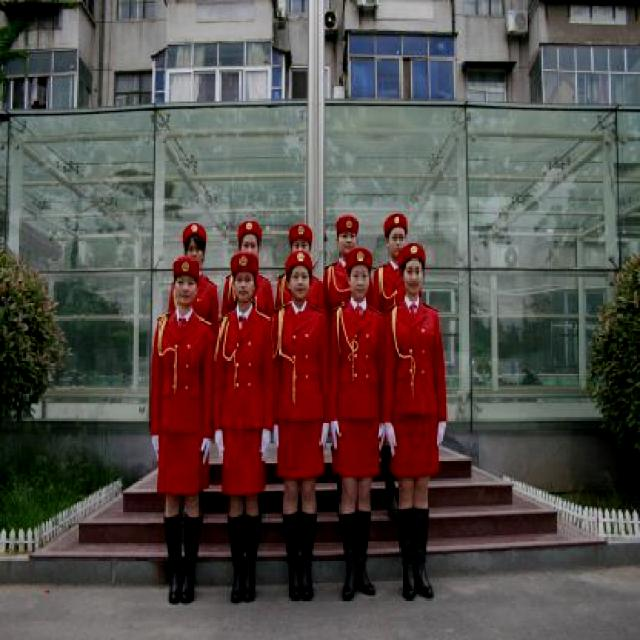boots: (162, 514, 190, 604), (351, 507, 377, 602), (296, 509, 322, 603), (280, 511, 306, 603), (222, 512, 248, 602), (243, 511, 266, 606), (182, 514, 206, 601), (416, 506, 438, 600), (394, 506, 415, 603), (339, 508, 359, 601)
face_nomask: (402, 257, 429, 295), (286, 266, 311, 302), (349, 265, 369, 300), (232, 270, 252, 302)
hand_glove: (375, 420, 388, 458), (385, 421, 397, 457), (260, 428, 272, 464), (329, 418, 340, 452), (213, 426, 224, 460), (320, 423, 331, 454), (200, 439, 212, 466), (435, 423, 448, 446), (150, 434, 162, 458), (272, 426, 280, 451)
head_nohelmet: (398, 240, 432, 266), (174, 258, 200, 288), (332, 213, 363, 238), (232, 251, 258, 280), (286, 248, 314, 274), (347, 246, 373, 272), (382, 212, 409, 236), (289, 222, 313, 248), (184, 223, 208, 246), (238, 221, 262, 242)
person: (138, 258, 222, 611), (331, 235, 394, 600), (396, 235, 456, 603), (220, 248, 274, 612), (283, 243, 328, 608)
